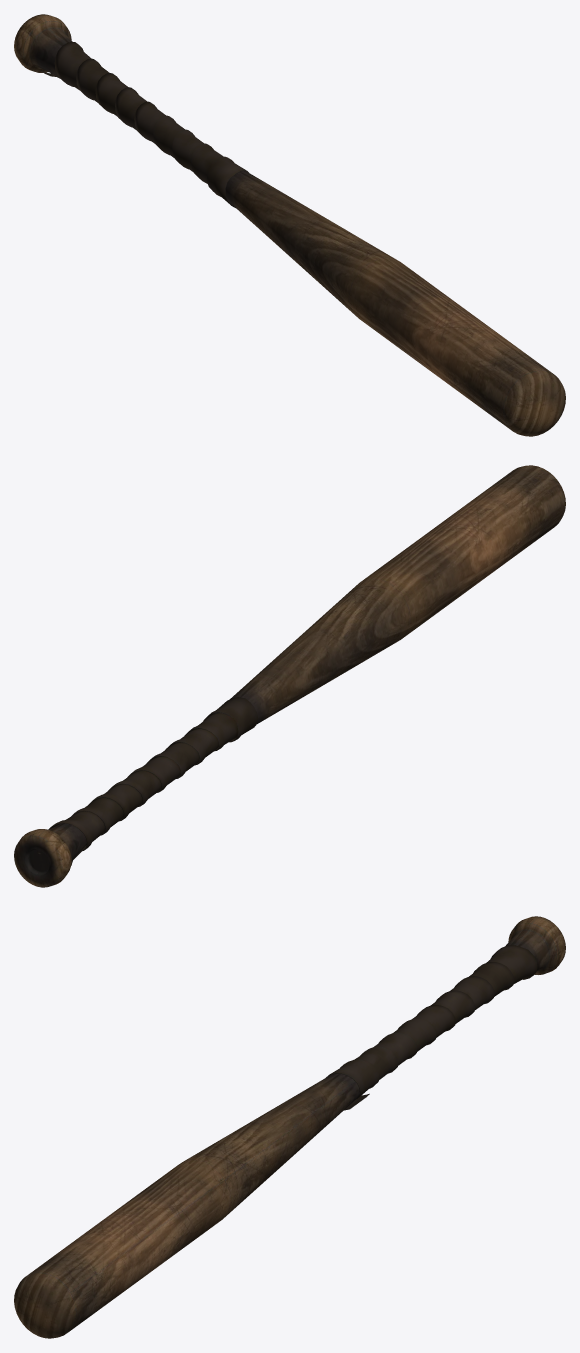
File: bat3_dark.glb
The picture shows the model from 3 angles, top to bottom: view 1: azimuth 30°, elevation 25°; view 2: azimuth 150°, elevation 25°; view 3: azimuth 330°, elevation 25°; orthographic projection.
Parts seen in each view (by area): view 1: body; view 2: body; view 3: body.
Part boxes in pixels (left/top/right/bottom): body: left=14, top=14, right=565, bottom=436; body: left=14, top=465, right=565, bottom=887; body: left=14, top=916, right=565, bottom=1338.
Bounding box in the file's own units: 0.0584 × 0.0584 × 0.84.
1 material, 1 textured.
